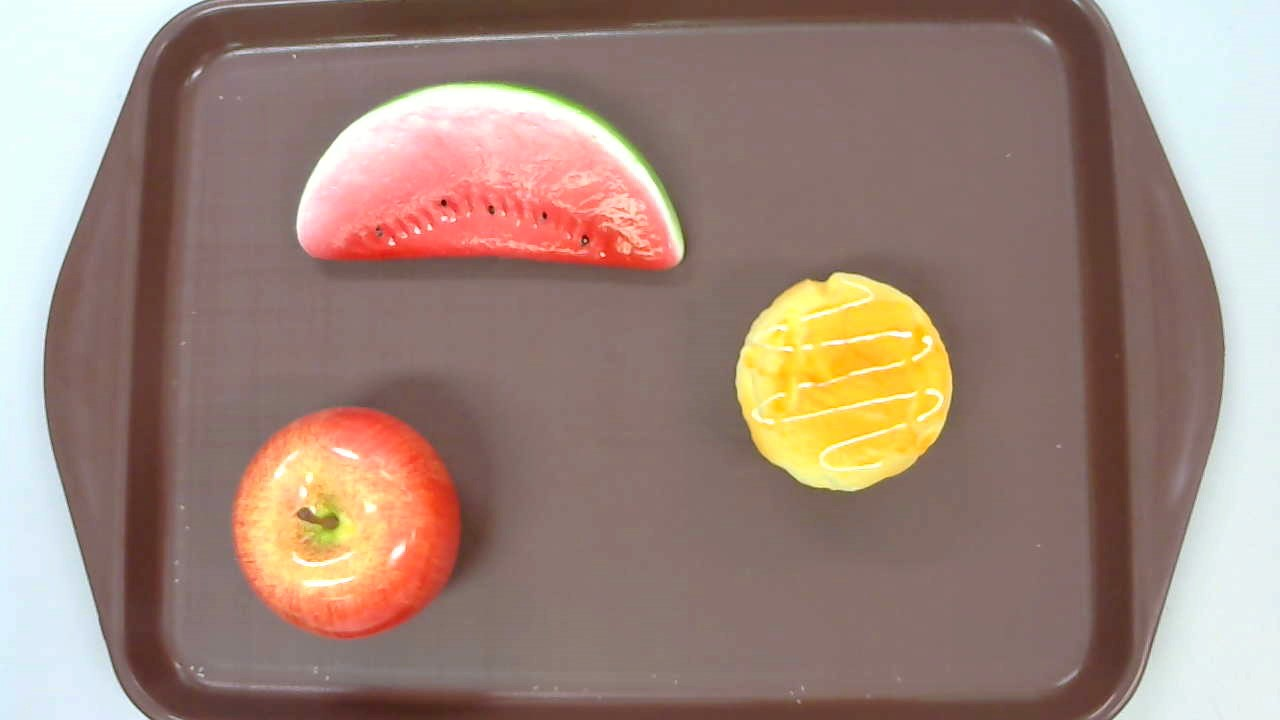cupcake: (735, 272, 954, 491)
red apple: (232, 405, 461, 641)
water melon: (294, 81, 686, 272)
